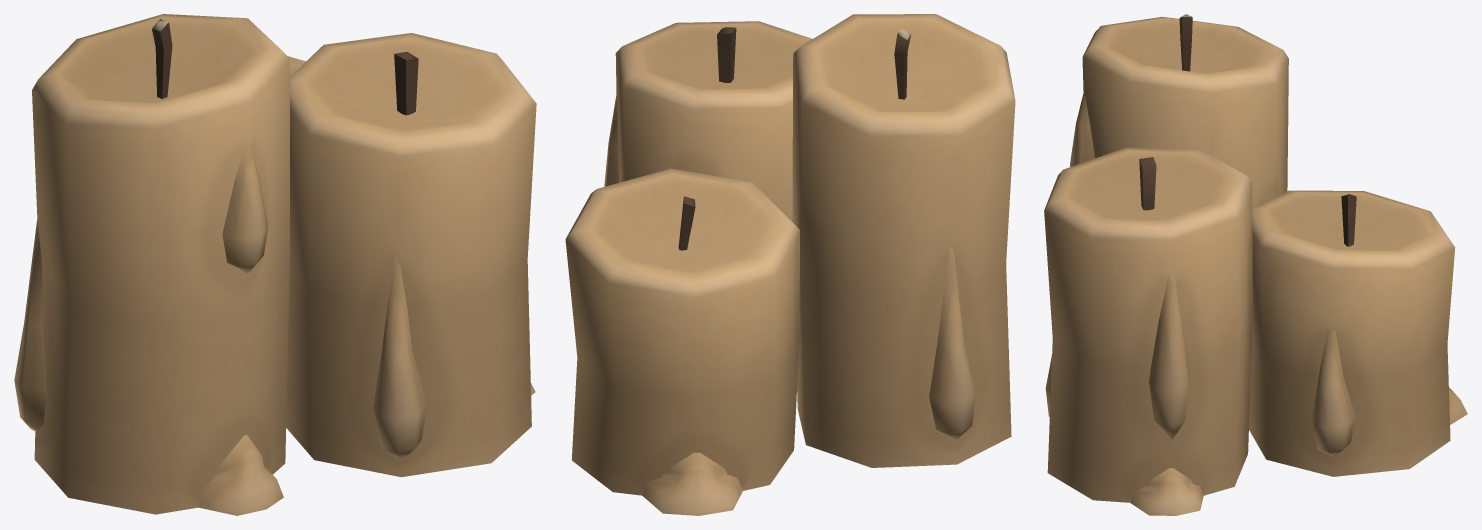
The picture shows the model from 3 angles, left to right: view 1: azimuth 30°, elevation 25°; view 2: azimuth 150°, elevation 25°; view 3: azimuth 270°, elevation 25°; orthographic projection. The views are drawn at different scales.
Visible parts, largest first — view 1: submesh_0; view 2: submesh_0; view 3: submesh_0.
Part boxes in pixels (<box>): submesh_0: <box>14,14,536,515</box>; submesh_0: <box>565,14,1015,515</box>; submesh_0: <box>1044,14,1467,515</box>.
Size of the model in its own units: 0.3294 by 0.299 by 0.319.
Materials: 1 (1 with a texture image).
